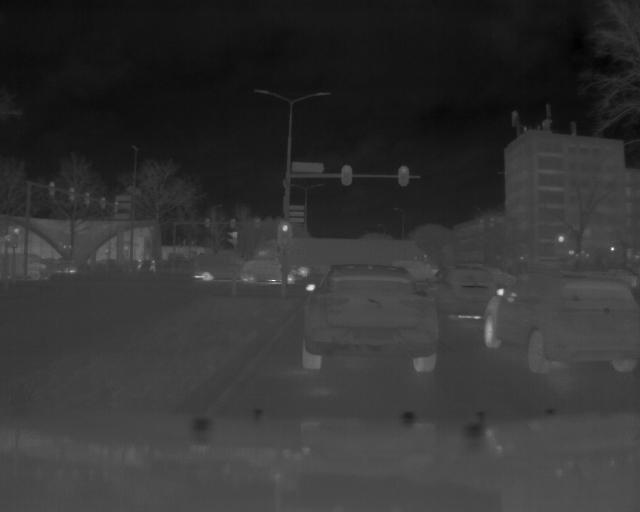car: (483, 269, 640, 373), (298, 262, 440, 376), (431, 263, 502, 322), (189, 247, 246, 284), (240, 257, 297, 289), (7, 252, 50, 284)
person: (147, 256, 157, 274), (136, 256, 144, 272)
